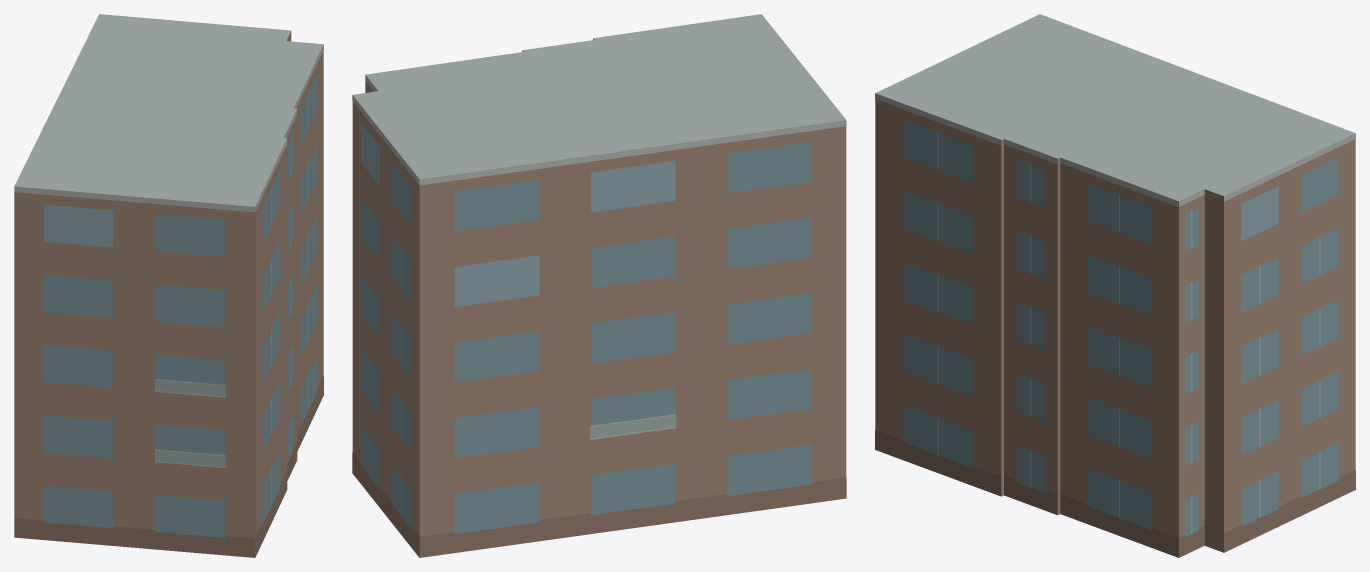
File: survey-upis-32580022.glb
3 views of the same model, side by side, from view 1: azimuth 30°, elevation 25°; view 2: azimuth 150°, elevation 25°; view 3: azimuth 270°, elevation 25° (orthographic). The views are drawn at different scales.
Visible parts, largest first — view 1: survey-upis-32580022.tmp; view 2: survey-upis-32580022.tmp; view 3: survey-upis-32580022.tmp.
Boxes of the visible parts, x1,y1,x2,y2 form: survey-upis-32580022.tmp: (14,14,323,557); survey-upis-32580022.tmp: (352,14,846,557); survey-upis-32580022.tmp: (875,14,1355,557).
Size of the model in its own units: 17.19 by 15.25 by 18.64.
